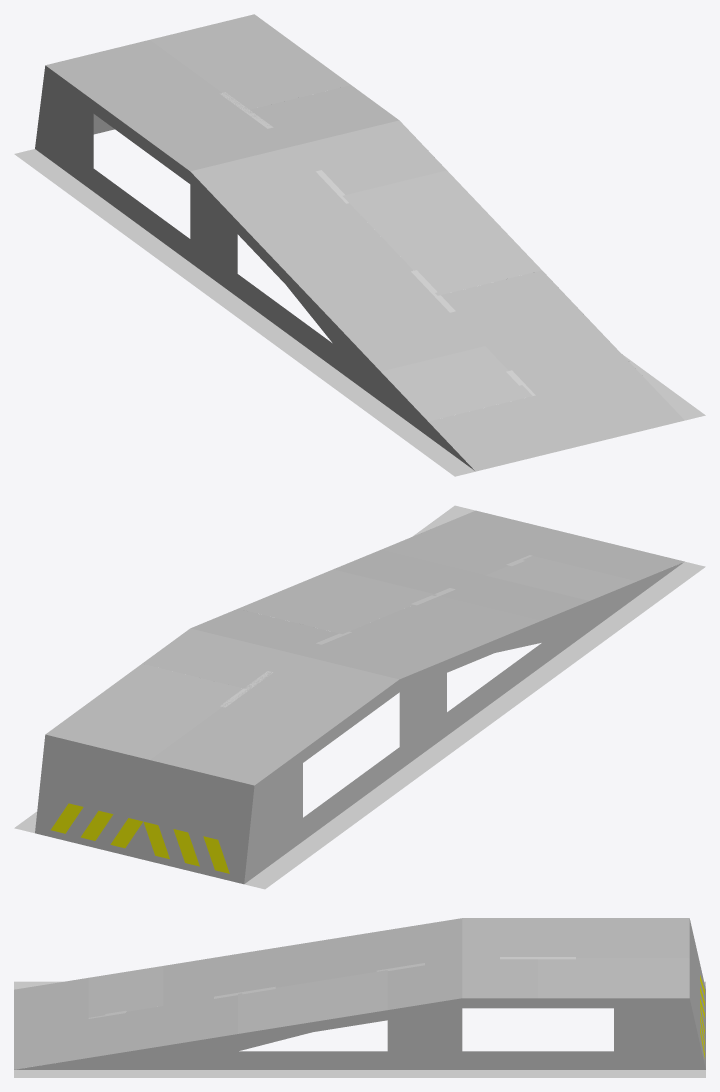
File: prmpw.glb
3 views of the same model, one above another, from view 1: azimuth 30°, elevation 25°; view 2: azimuth 150°, elevation 25°; view 3: azimuth 270°, elevation 25° (orthographic). The views are drawn at different scales.
Parts seen in each view (by area): view 1: prmpw; view 2: prmpw; view 3: prmpw.
Boxes of the visible parts, x1,y1,x2,y2 form: prmpw: [14, 14, 705, 476]; prmpw: [14, 505, 705, 889]; prmpw: [14, 918, 705, 1077].
Size of the model in its own units: 16.8 by 5.83 by 51.09.
